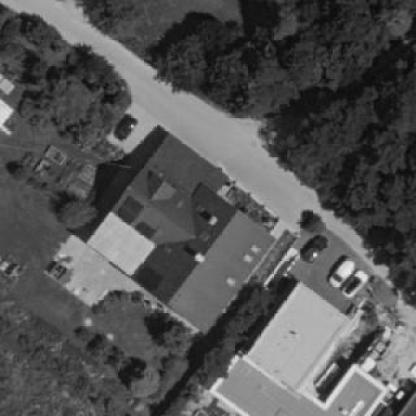solar-pv-panel: (115, 196, 144, 226), (136, 220, 155, 239)
